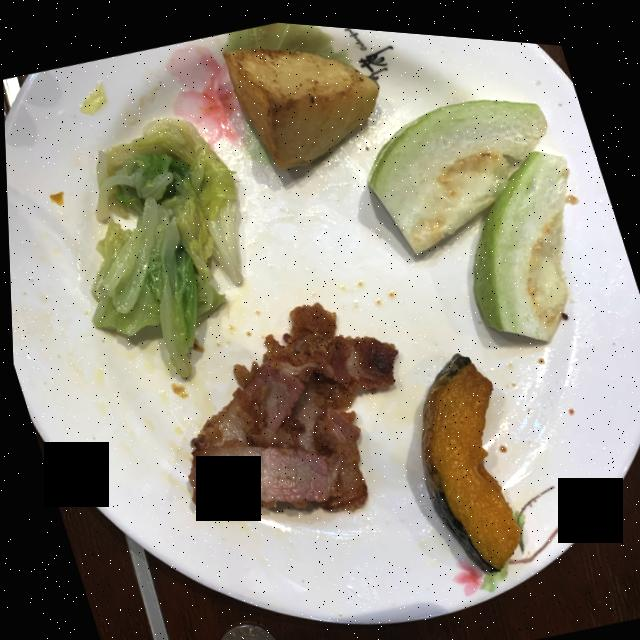cabbage: (89, 115, 241, 374)
coin: (214, 618, 273, 640)
fried potato: (222, 44, 378, 164)
guava -sliced-: (366, 91, 567, 331)
pumpkin: (418, 346, 517, 565)
red grilled pork: (185, 297, 395, 504)
